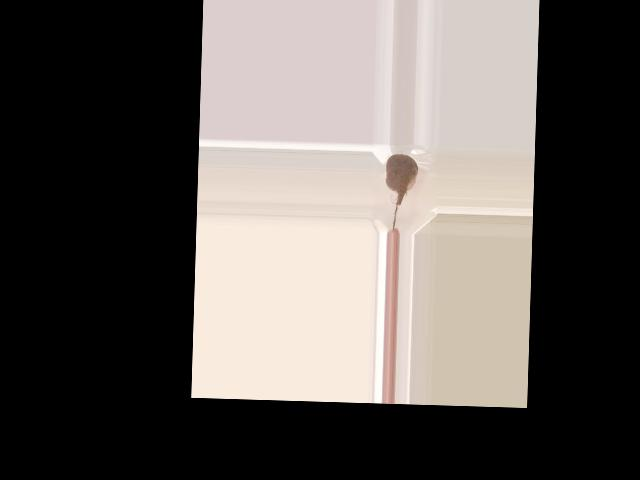beet: (384, 153, 419, 231)
